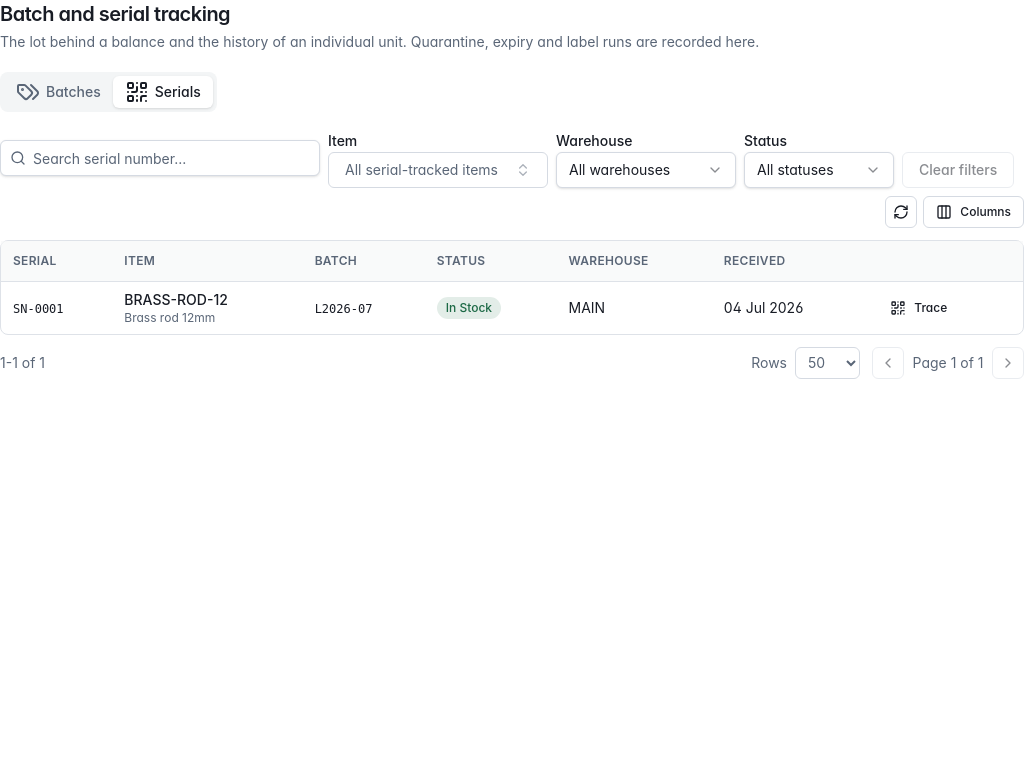
Test: serial tracking › loads the unit history only when a serial is traced
This screenshot has width=1024, height=768.
Expected: the text "SN-0001" is shown, [13, 302, 64, 316]
Expected: the text "MAIN" is shown, [556, 281, 712, 334]
Click the button with aria-label "trace serial SN-0001".
click(919, 308)  # box [878, 292, 959, 324]
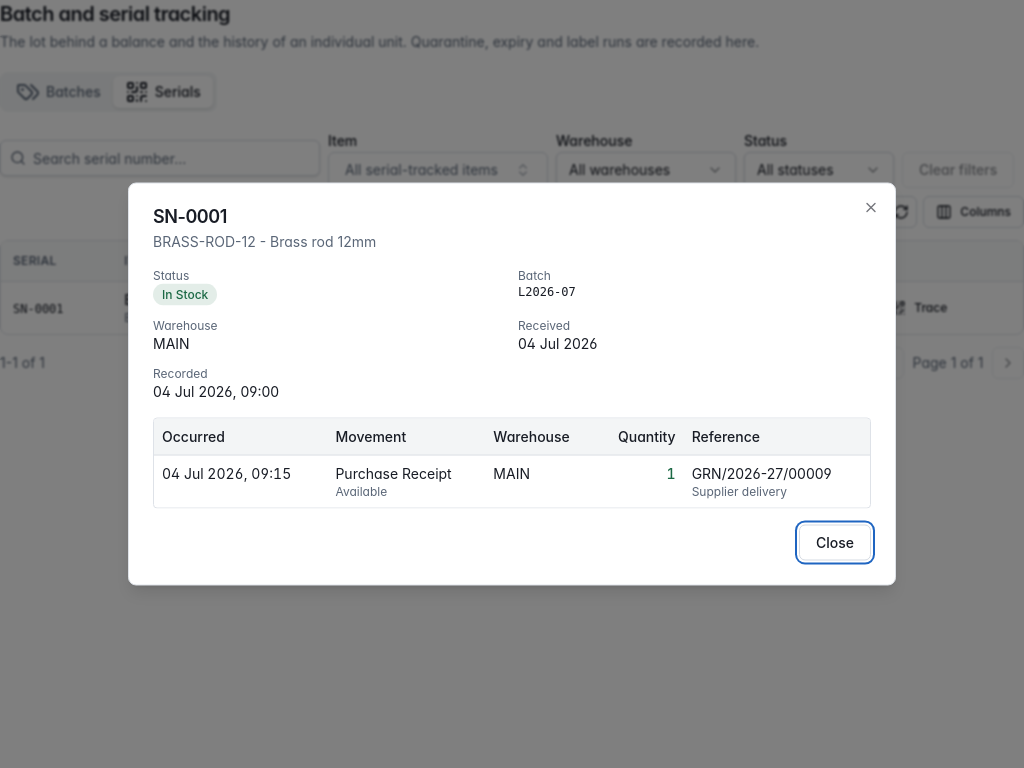
Expected: the text "GRN/2026-27/00009" is shown, [692, 464, 832, 482]
Expected: the text "Purchase Receipt" is shown, [335, 464, 452, 482]
